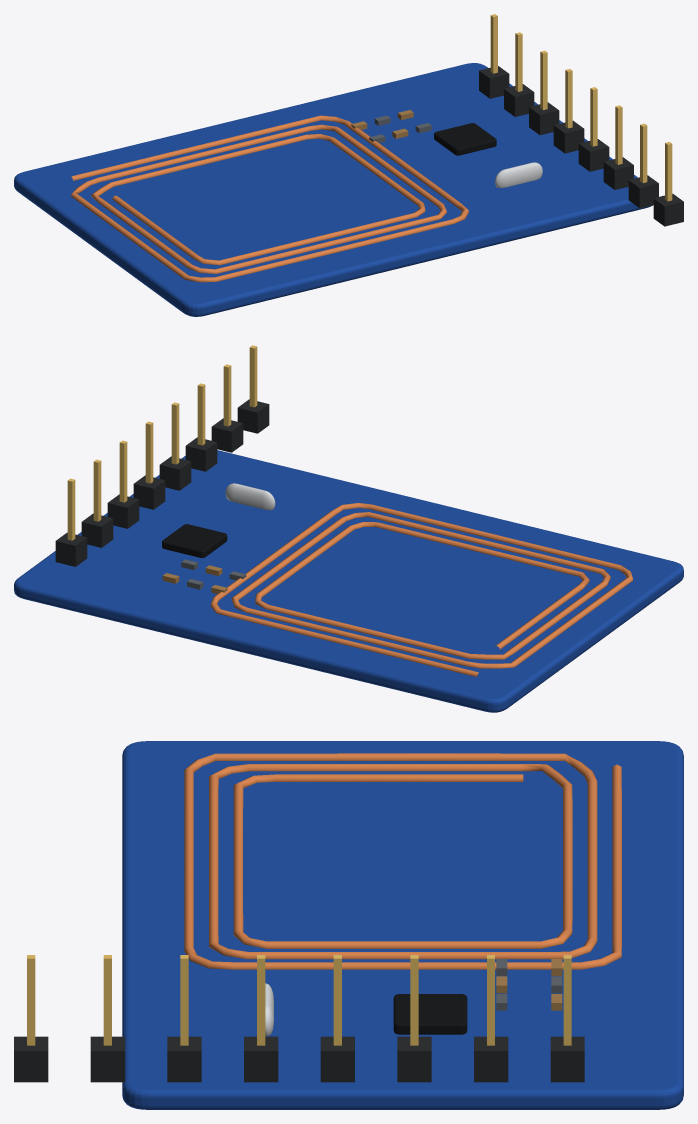
Rendered from modulCzytnika.glb.
3 views of the same model, one above another, from view 1: azimuth 30°, elevation 25°; view 2: azimuth 150°, elevation 25°; view 3: azimuth 270°, elevation 25° (orthographic). The views are drawn at different scales.
Visible parts, largest first — view 1: Płytka drukowana, Antena drukowana, Złącze (SDA, SCK, MOSI, MISO, IRQ, GND, RST, 3,3 V), Układ czytnika (front-end RF), Kwarc 27,12 MHz, Moduł czytnika HF; view 2: Płytka drukowana, Antena drukowana, Złącze (SDA, SCK, MOSI, MISO, IRQ, GND, RST, 3,3 V), Układ czytnika (front-end RF), Kwarc 27,12 MHz, Moduł czytnika HF; view 3: Płytka drukowana, Antena drukowana, Złącze (SDA, SCK, MOSI, MISO, IRQ, GND, RST, 3,3 V), Układ czytnika (front-end RF), Moduł czytnika HF.
Boxes of the visible parts, bbox=[...] form: Płytka drukowana: bbox=[14, 63, 652, 316]; Antena drukowana: bbox=[71, 115, 468, 282]; Złącze (SDA, SCK, MOSI, MISO, IRQ, GND, RST, 3,3 V): bbox=[479, 14, 683, 226]; Układ czytnika (front-end RF): bbox=[434, 123, 496, 155]; Kwarc 27,12 MHz: bbox=[495, 162, 542, 187]; Moduł czytnika HF: bbox=[351, 110, 431, 142]; Płytka drukowana: bbox=[14, 450, 683, 712]; Antena drukowana: bbox=[210, 503, 632, 676]; Złącze (SDA, SCK, MOSI, MISO, IRQ, GND, RST, 3,3 V): bbox=[55, 345, 269, 566]; Układ czytnika (front-end RF): bbox=[162, 524, 227, 557]; Kwarc 27,12 MHz: bbox=[225, 483, 275, 510]; Moduł czytnika HF: bbox=[162, 559, 246, 593]; Płytka drukowana: bbox=[122, 741, 683, 1109]; Antena drukowana: bbox=[184, 753, 621, 969]; Złącze (SDA, SCK, MOSI, MISO, IRQ, GND, RST, 3,3 V): bbox=[14, 955, 584, 1082]; Układ czytnika (front-end RF): bbox=[393, 994, 467, 1034]; Moduł czytnika HF: bbox=[496, 959, 562, 1010].
Size of the model in its own units: 0.061 by 0.0111 by 0.0488.
